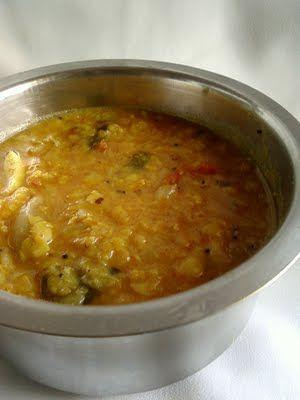daal: (0, 115, 283, 338)
